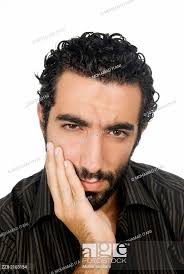middle_eastern_male: (49, 53, 160, 192)
